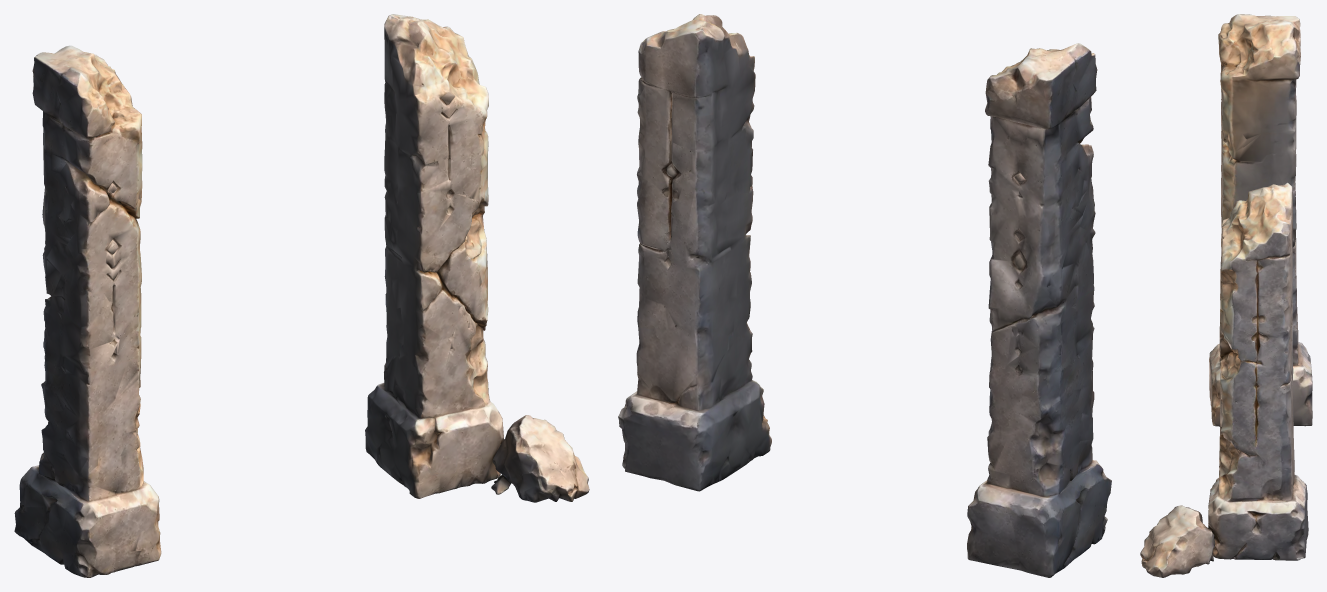
Rendered from ruina_alta.glb.
The picture shows the model from 3 angles, left to right: view 1: azimuth 30°, elevation 25°; view 2: azimuth 150°, elevation 25°; view 3: azimuth 270°, elevation 25°; orthographic projection. The views are drawn at different scales.
Parts seen in each view (by area): view 1: tripo_node_ea3ab66b-e506-479a-b8a6-677d53bffa79; view 2: tripo_node_ea3ab66b-e506-479a-b8a6-677d53bffa79; view 3: tripo_node_ea3ab66b-e506-479a-b8a6-677d53bffa79.
Part boxes in pixels (<box>): tripo_node_ea3ab66b-e506-479a-b8a6-677d53bffa79: <box>14,14,589,577</box>; tripo_node_ea3ab66b-e506-479a-b8a6-677d53bffa79: <box>618,14,1111,577</box>; tripo_node_ea3ab66b-e506-479a-b8a6-677d53bffa79: <box>1140,14,1312,577</box>.
Size of the model in its own units: 0.9998 by 0.9777 by 0.3928.
1 material, 1 textured.
